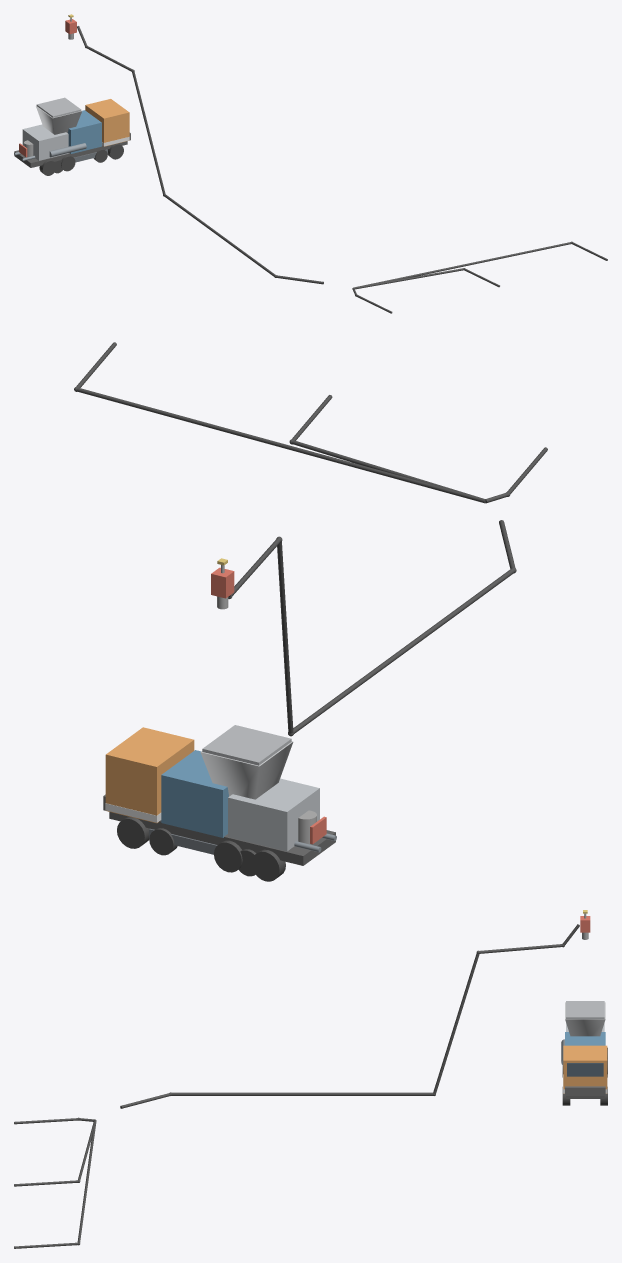
Rendered from cementFleet.glb.
3 renders of one model, top to bottom at view 1: azimuth 30°, elevation 25°; view 2: azimuth 150°, elevation 25°; view 3: azimuth 270°, elevation 25°, orthographic. The views are drawn at different scales.
Size of the model in its own units: 25.87 by 10.35 by 32.24.
